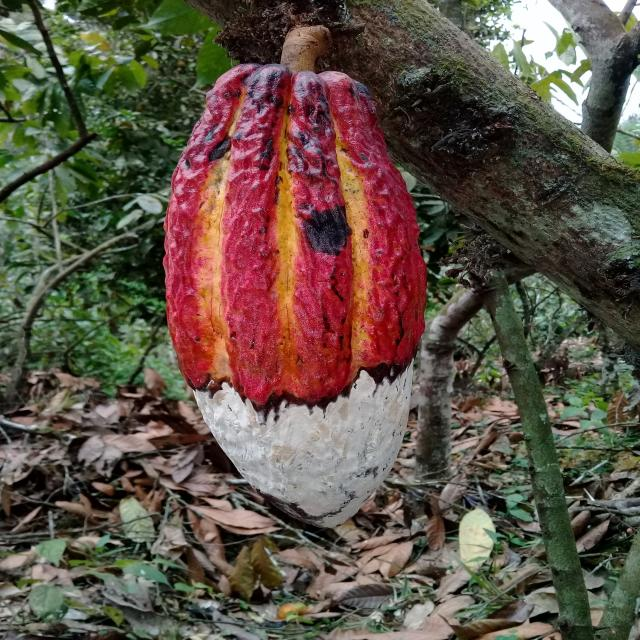Monilia: (159, 63, 431, 530)
